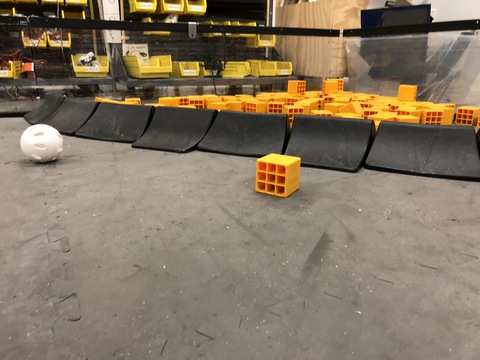ball: (14, 120, 76, 169)
block: (242, 155, 308, 201)
